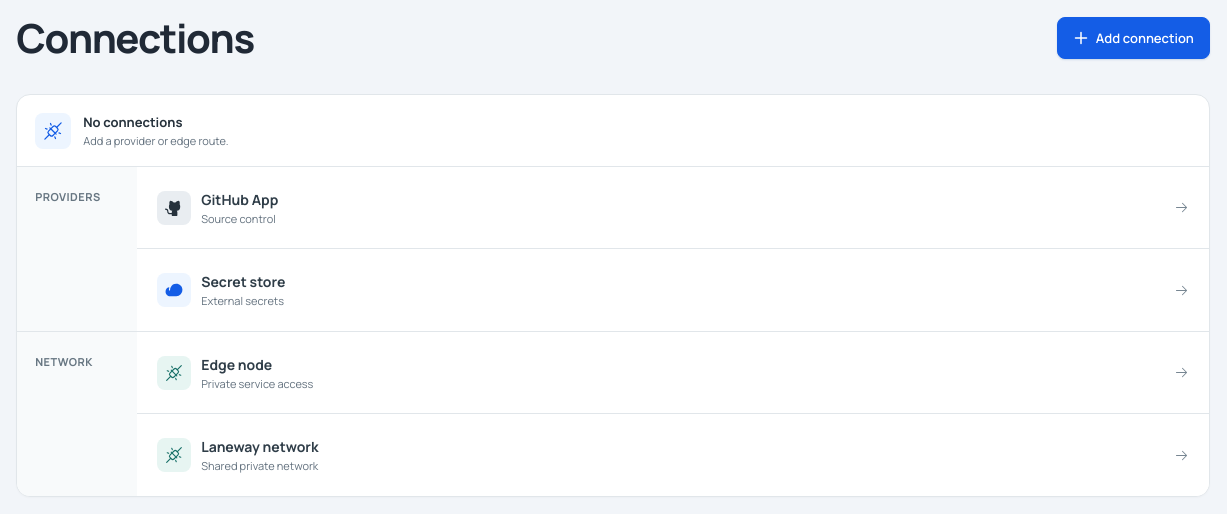
Scenario: connections page › opens the Laneway network authorization flow
Click the button "Laneway network Shared private network" at (174, 455), box [137,414,1209,496]
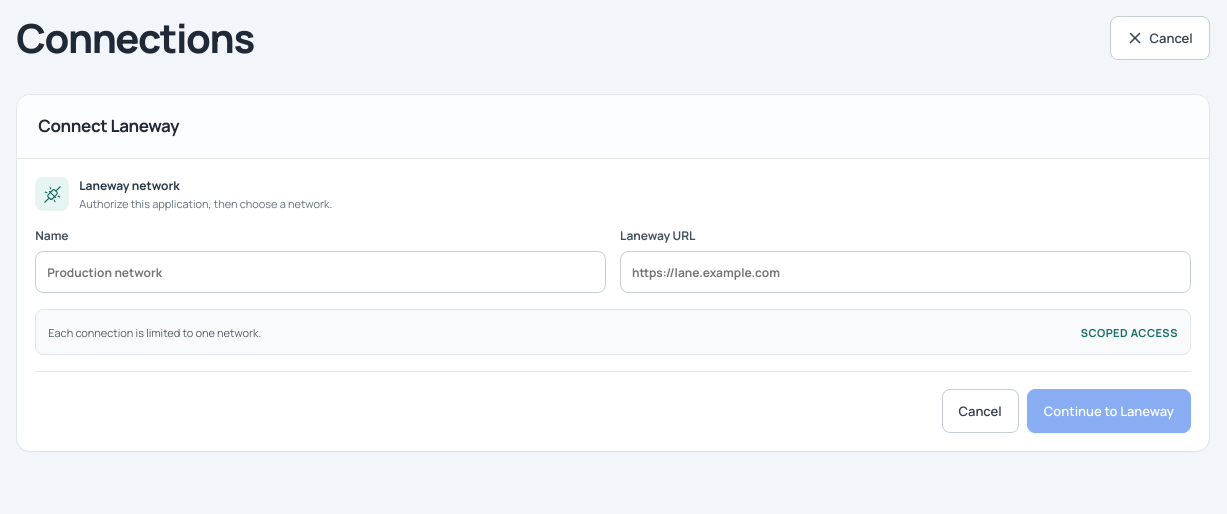
expect the heading "Connect Laneway" is shown: met, box [38,114,179,137]
expect the field with placeholder "Production network" is shown: met, box [35,251,606,293]
expect the field with placeholder "https://lane.example.com" is shown: met, box [620,251,1191,293]
